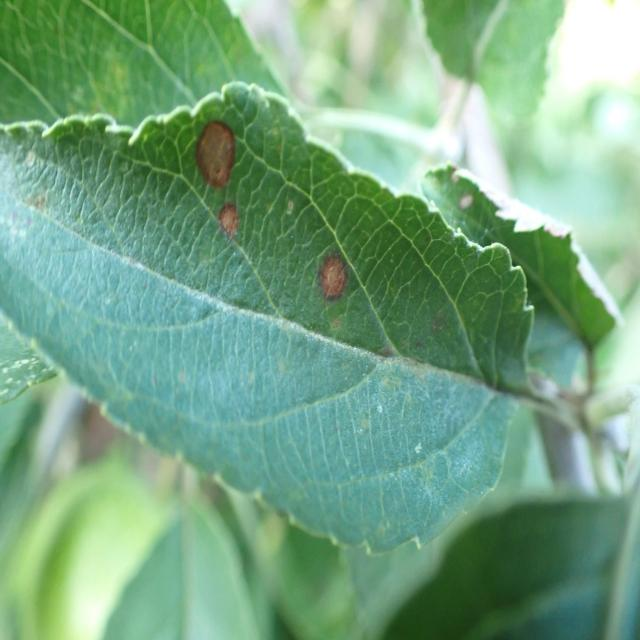Black Rot: (299, 216, 364, 335), (189, 106, 242, 195), (439, 133, 477, 219), (205, 193, 248, 257)
scab: (13, 158, 476, 440)
